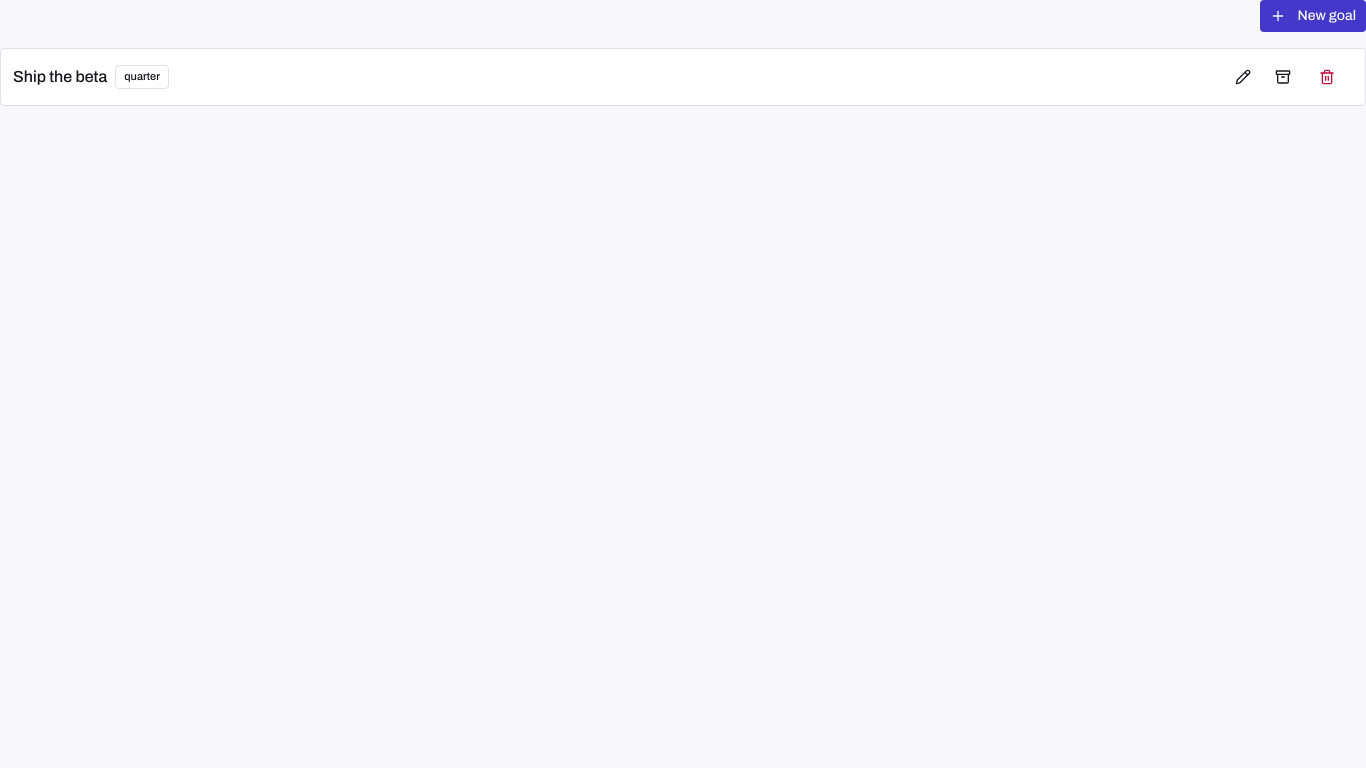
Test: GoalsView › closes the edit dialog on escape and resets which goal was being edited
Click the button named "Edit Ship the beta" at x=1243, y=77, box [1225, 61, 1261, 93]
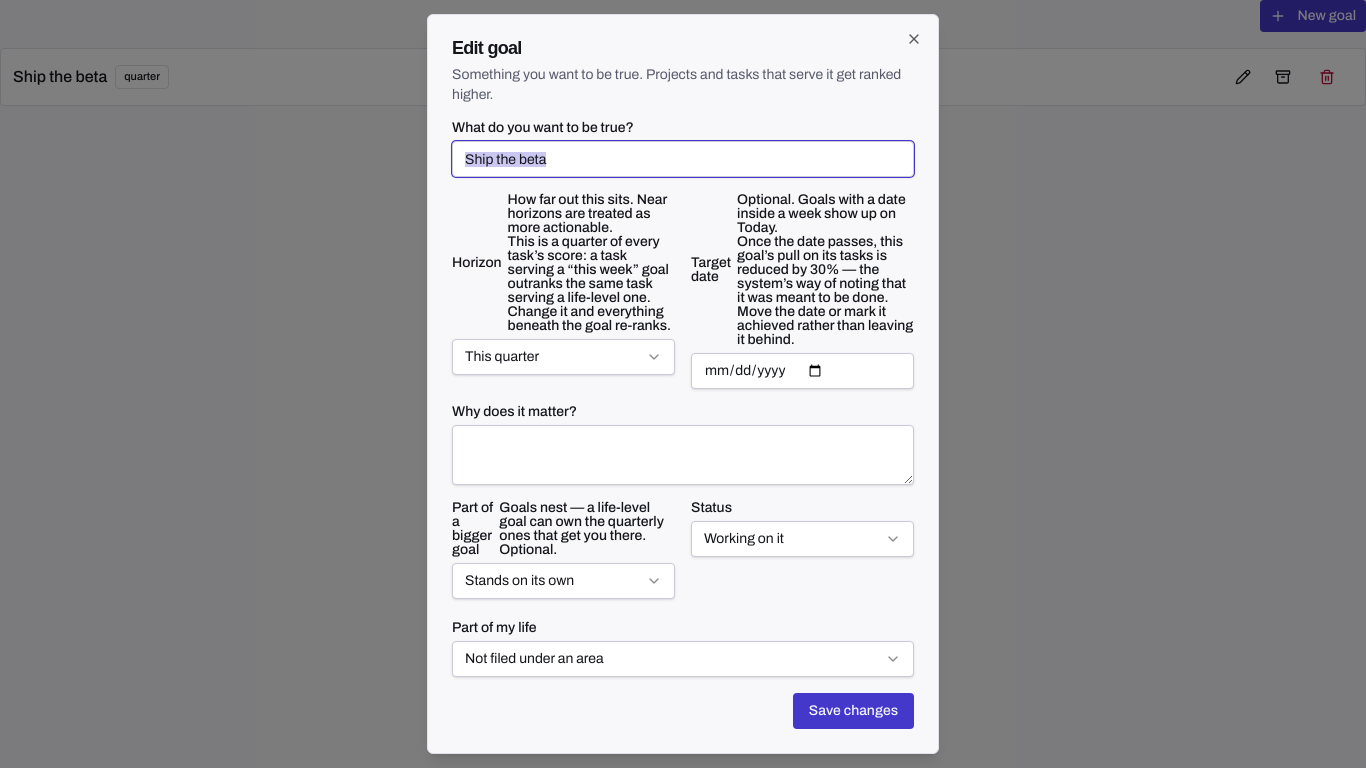
Now the dialog is shown, box [427, 14, 939, 754]
Press Escape
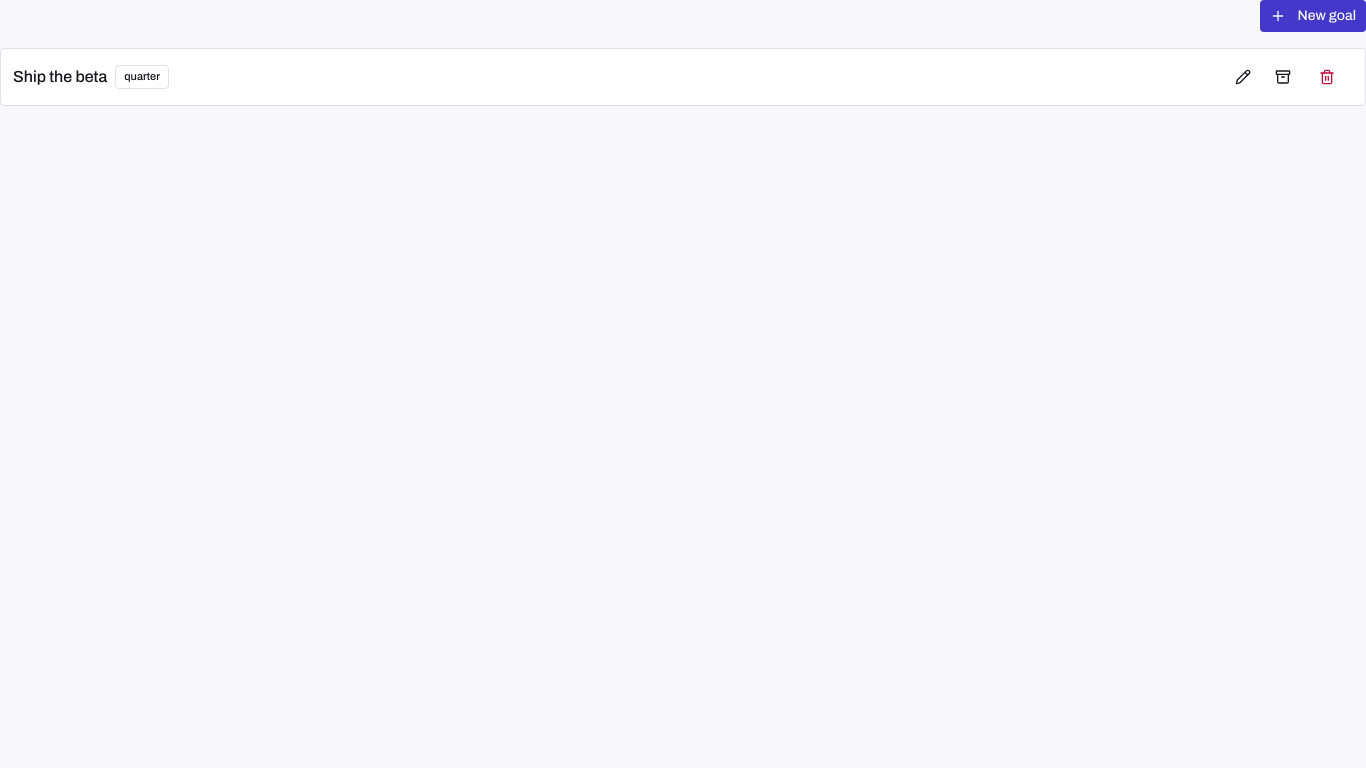
Now the dialog is gone
